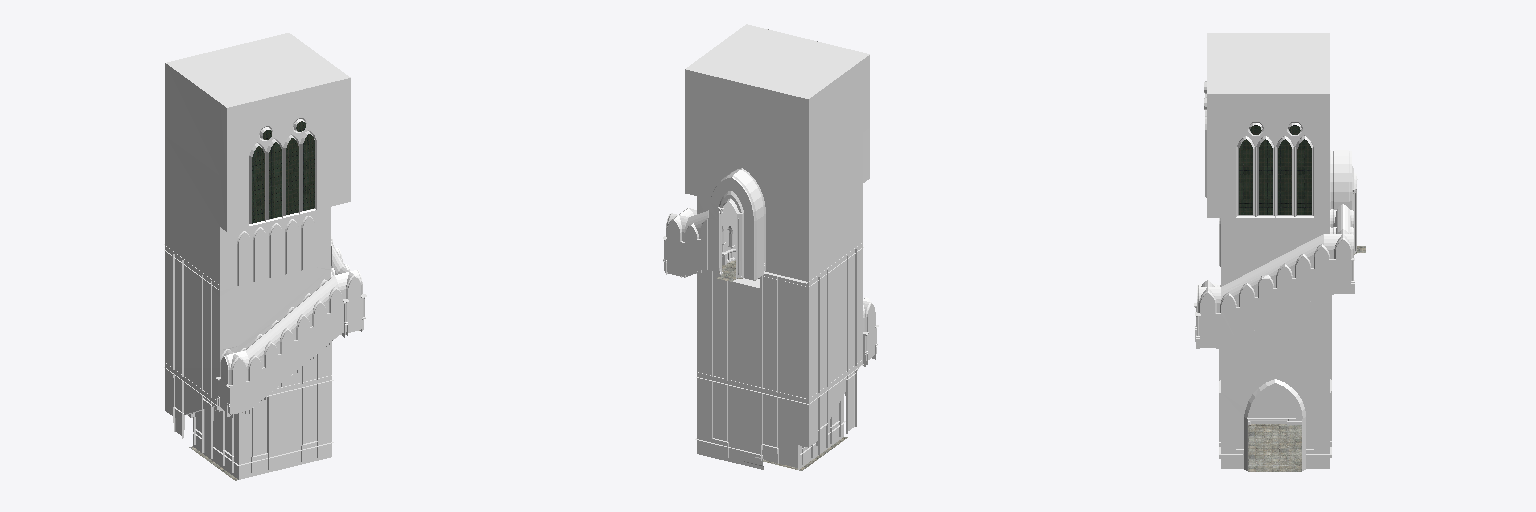
3 renders of one model, left to right at view 1: azimuth 30°, elevation 25°; view 2: azimuth 150°, elevation 25°; view 3: azimuth 270°, elevation 25°, orthographic.
Visible parts, largest first — view 1: mesh0, mesh12, mesh6, mesh2, mesh7, mesh8; view 2: mesh0, mesh6, mesh3; view 3: mesh0, mesh12, mesh7, mesh6, mesh10, mesh4, mesh8.
Boxes of the visible parts, box(x1,y1,x2,y2) form: mesh0: box(165, 33, 363, 479); mesh12: box(252, 121, 314, 223); mesh6: box(164, 216, 366, 417); mesh2: box(239, 217, 314, 285); mesh7: box(218, 118, 365, 406); mesh8: box(192, 216, 364, 413); mesh0: box(664, 24, 876, 469); mesh6: box(663, 208, 878, 404); mesh3: box(720, 195, 853, 465); mesh0: box(1197, 33, 1357, 468); mesh12: box(1239, 125, 1311, 214); mesh7: box(1195, 81, 1354, 470); mesh6: box(1194, 204, 1354, 421); mesh10: box(1248, 246, 1365, 471); mesh4: box(1247, 383, 1302, 418); mesh8: box(1196, 193, 1353, 316).
Size of the model in its own units: 14.57 by 38.59 by 15.73.
13 materials, 2 textured.